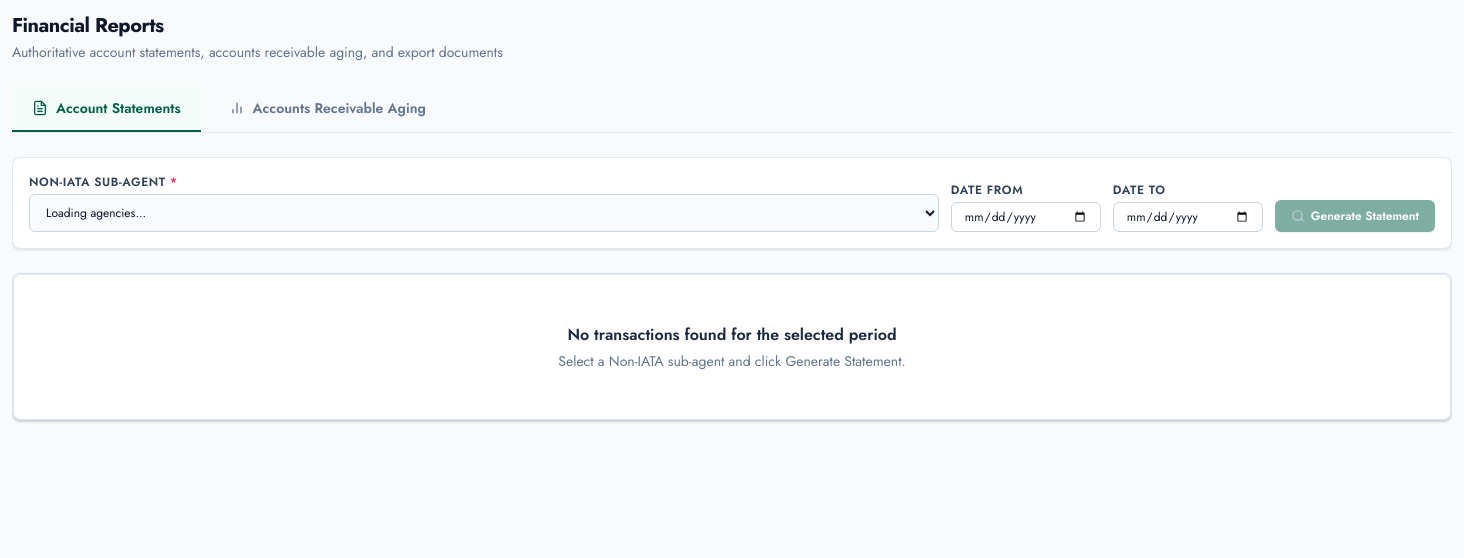
Scenario: ReportsPage › switches to Accounts Receivable Aging tab and fetches aging report
Click the button "Accounts Receivable Aging": click(327, 109) [209,86,446,132]
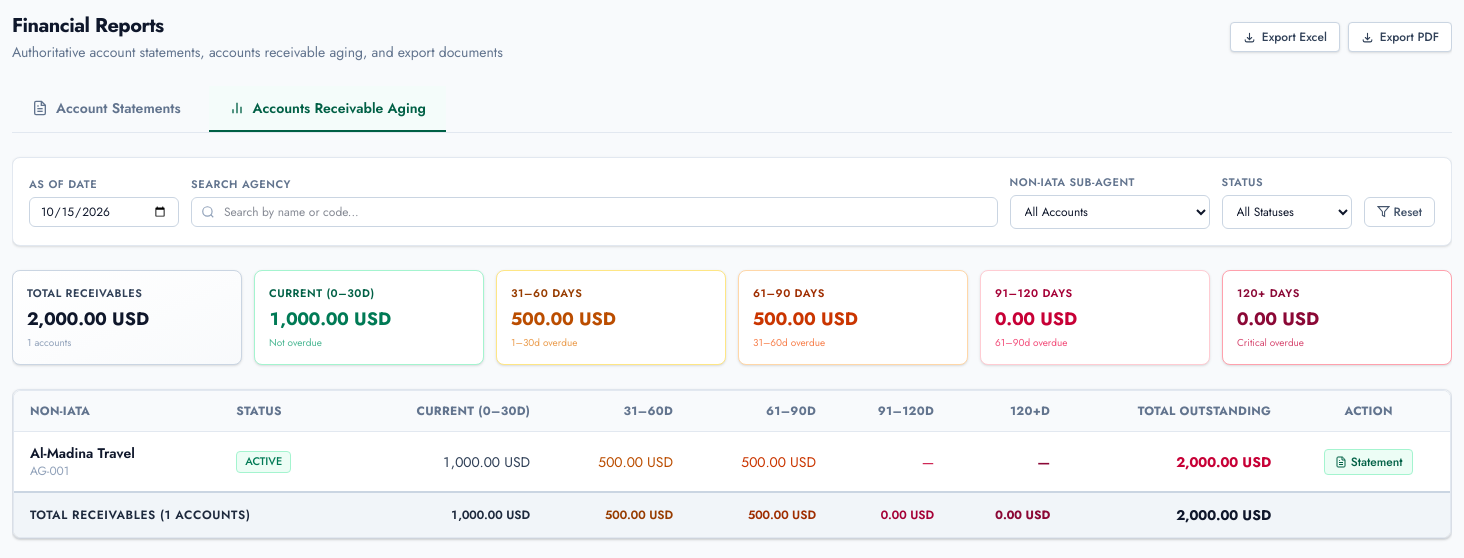
expect the text "Current (0–30d)" is shown: met, box [269,284,375,300]
expect the text "Total Receivables (1 accounts)" is shown: met, box [14,492,351,537]
